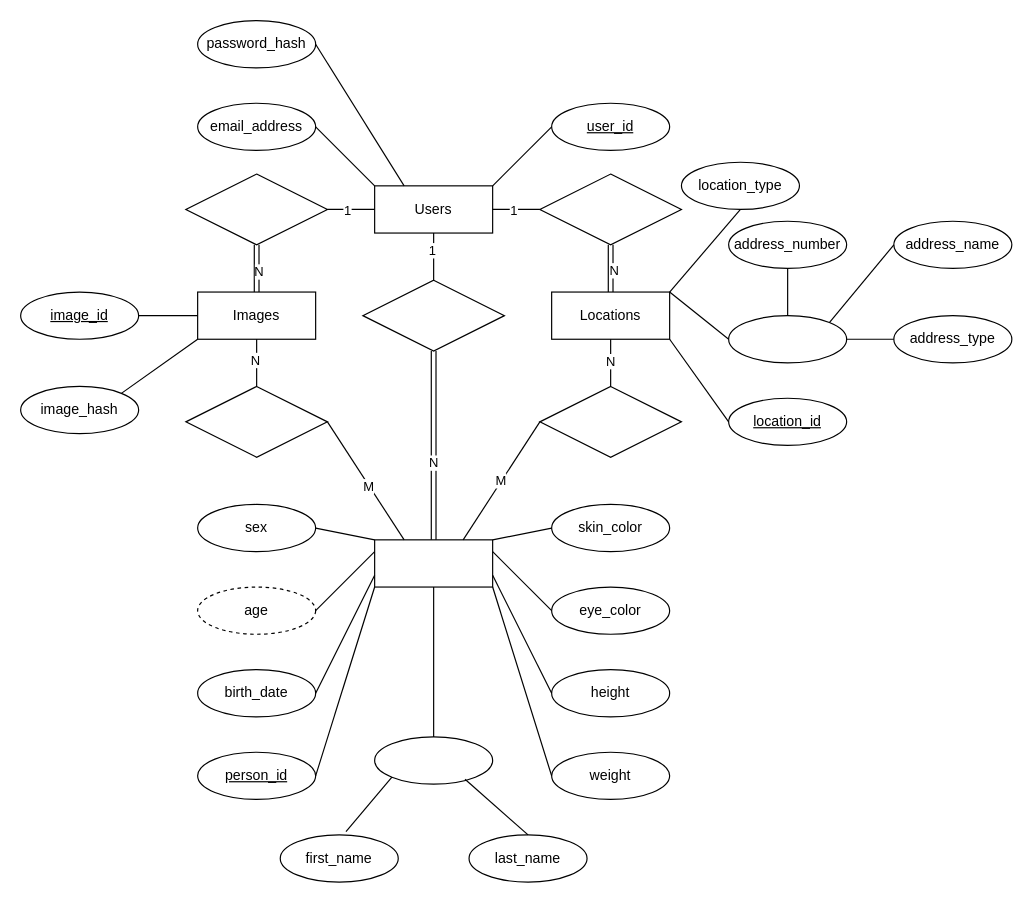
Some shapes in this 1033 by 903 pixel diagram are drawn without their labels. Each missing label, with the box of its shape:
address: (727, 314, 847, 363)
depictionOf: (185, 385, 327, 457)
name: (373, 736, 493, 784)
Persons: (373, 539, 493, 587)
residentOf: (539, 385, 681, 457)
submitsImage: (185, 173, 327, 245)
submitsLocation: (539, 173, 681, 245)
submitsPerson: (362, 279, 504, 351)
